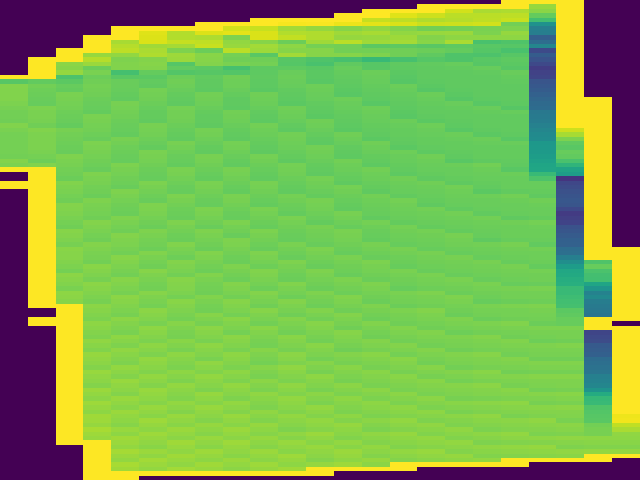cube: (1, 1, 640, 480)
